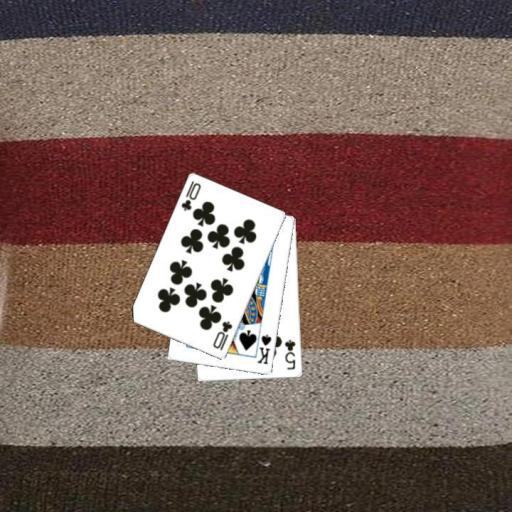10C: (178, 178, 203, 213), (210, 318, 234, 352)
5C: (282, 337, 297, 371)
KS: (255, 332, 273, 367)
